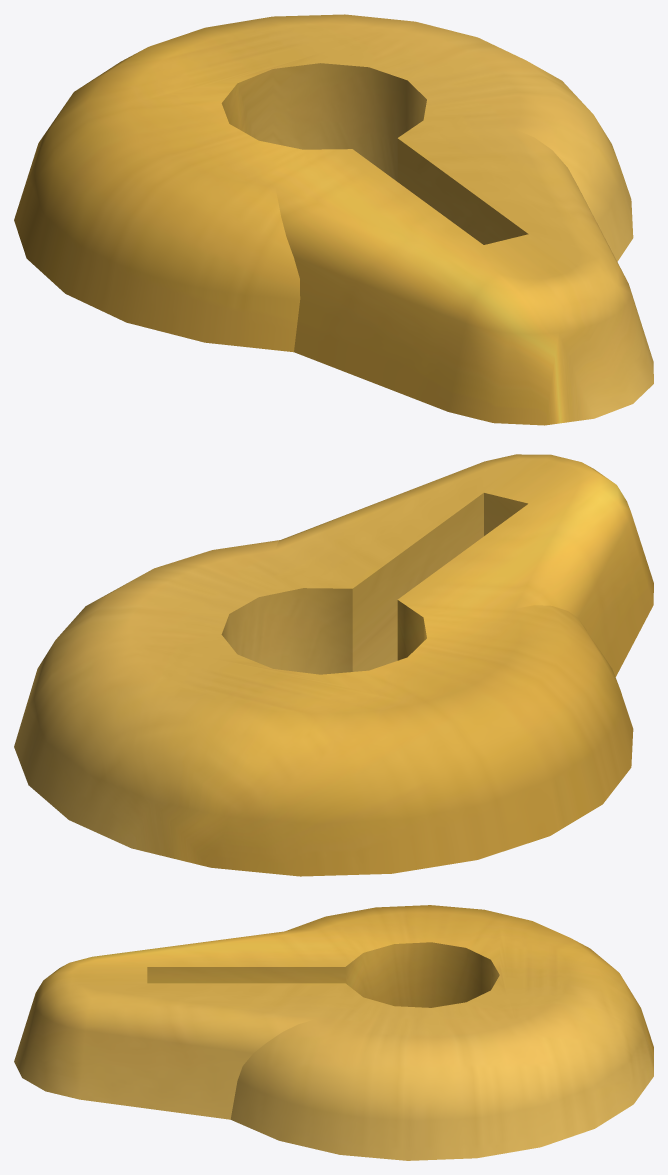
Rendered from Keyhole.fbx.
3 renders of one model, top to bottom at view 1: azimuth 30°, elevation 25°; view 2: azimuth 150°, elevation 25°; view 3: azimuth 270°, elevation 25°, orthographic. The views are drawn at different scales.
Visible parts, largest first — view 1: l3; view 2: l3; view 3: l3.
Part boxes in pixels (x1,y1,x2,y2): l3: (14,14,653,425); l3: (14,454,653,876); l3: (14,905,653,1160).
Bounding box in the file's own units: 299 × 61 × 408.
